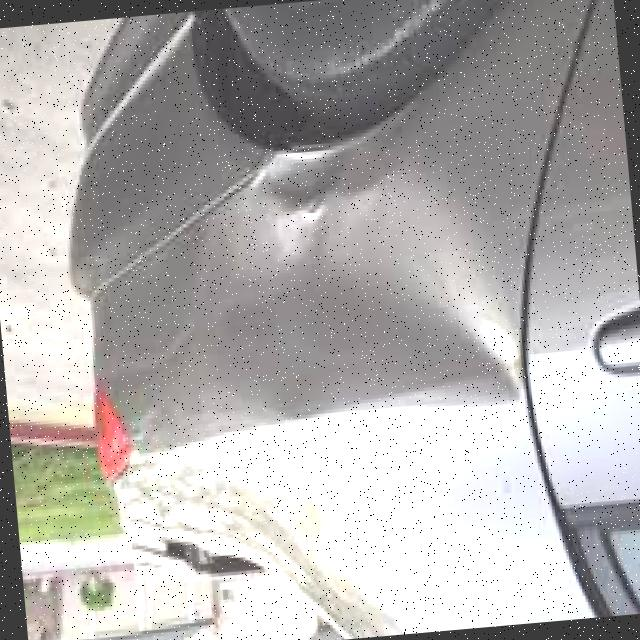Dent: (157, 116, 556, 466)
